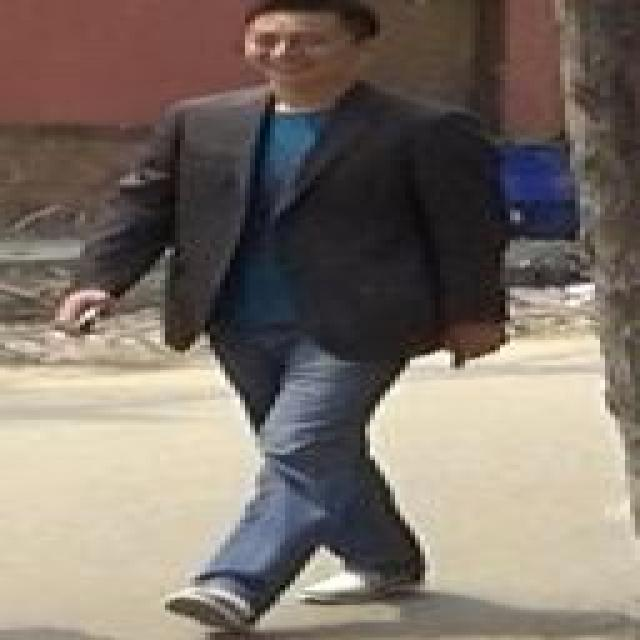adult: (66, 0, 525, 631)
